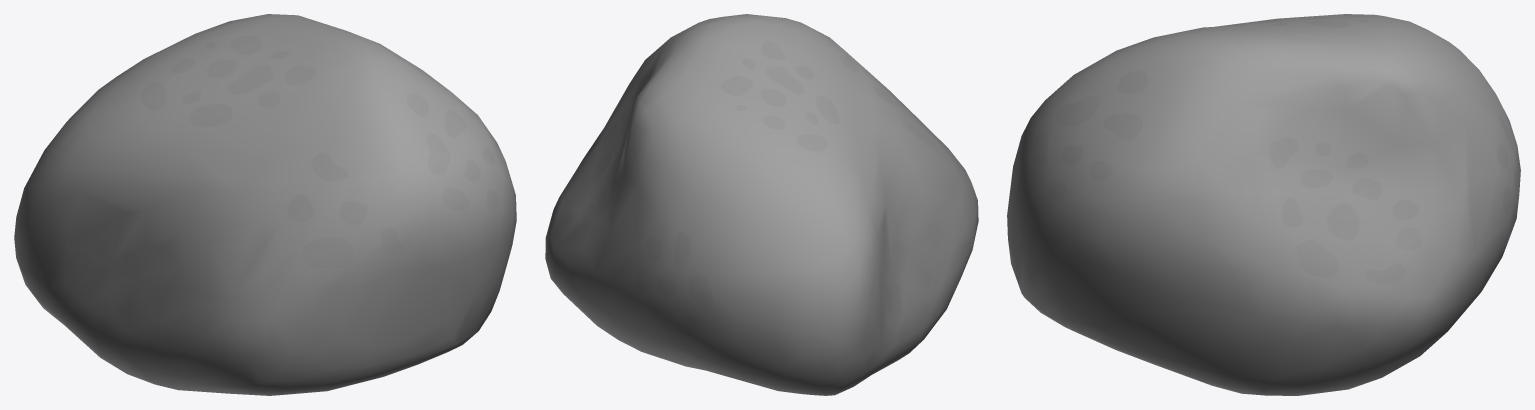
File: Peb01.fbx
The picture shows the model from 3 angles, left to right: view 1: azimuth 30°, elevation 25°; view 2: azimuth 150°, elevation 25°; view 3: azimuth 270°, elevation 25°; orthographic projection. The views are drawn at different scales.
Visible parts, largest first — view 1: Peb01; view 2: Peb01; view 3: Peb01.
Part boxes in pixels (<box>): Peb01: <box>14,14,516,395</box>; Peb01: <box>545,14,978,395</box>; Peb01: <box>1007,14,1520,395</box>.
Size of the model in its own units: 4.45 by 3.53 by 4.81.
